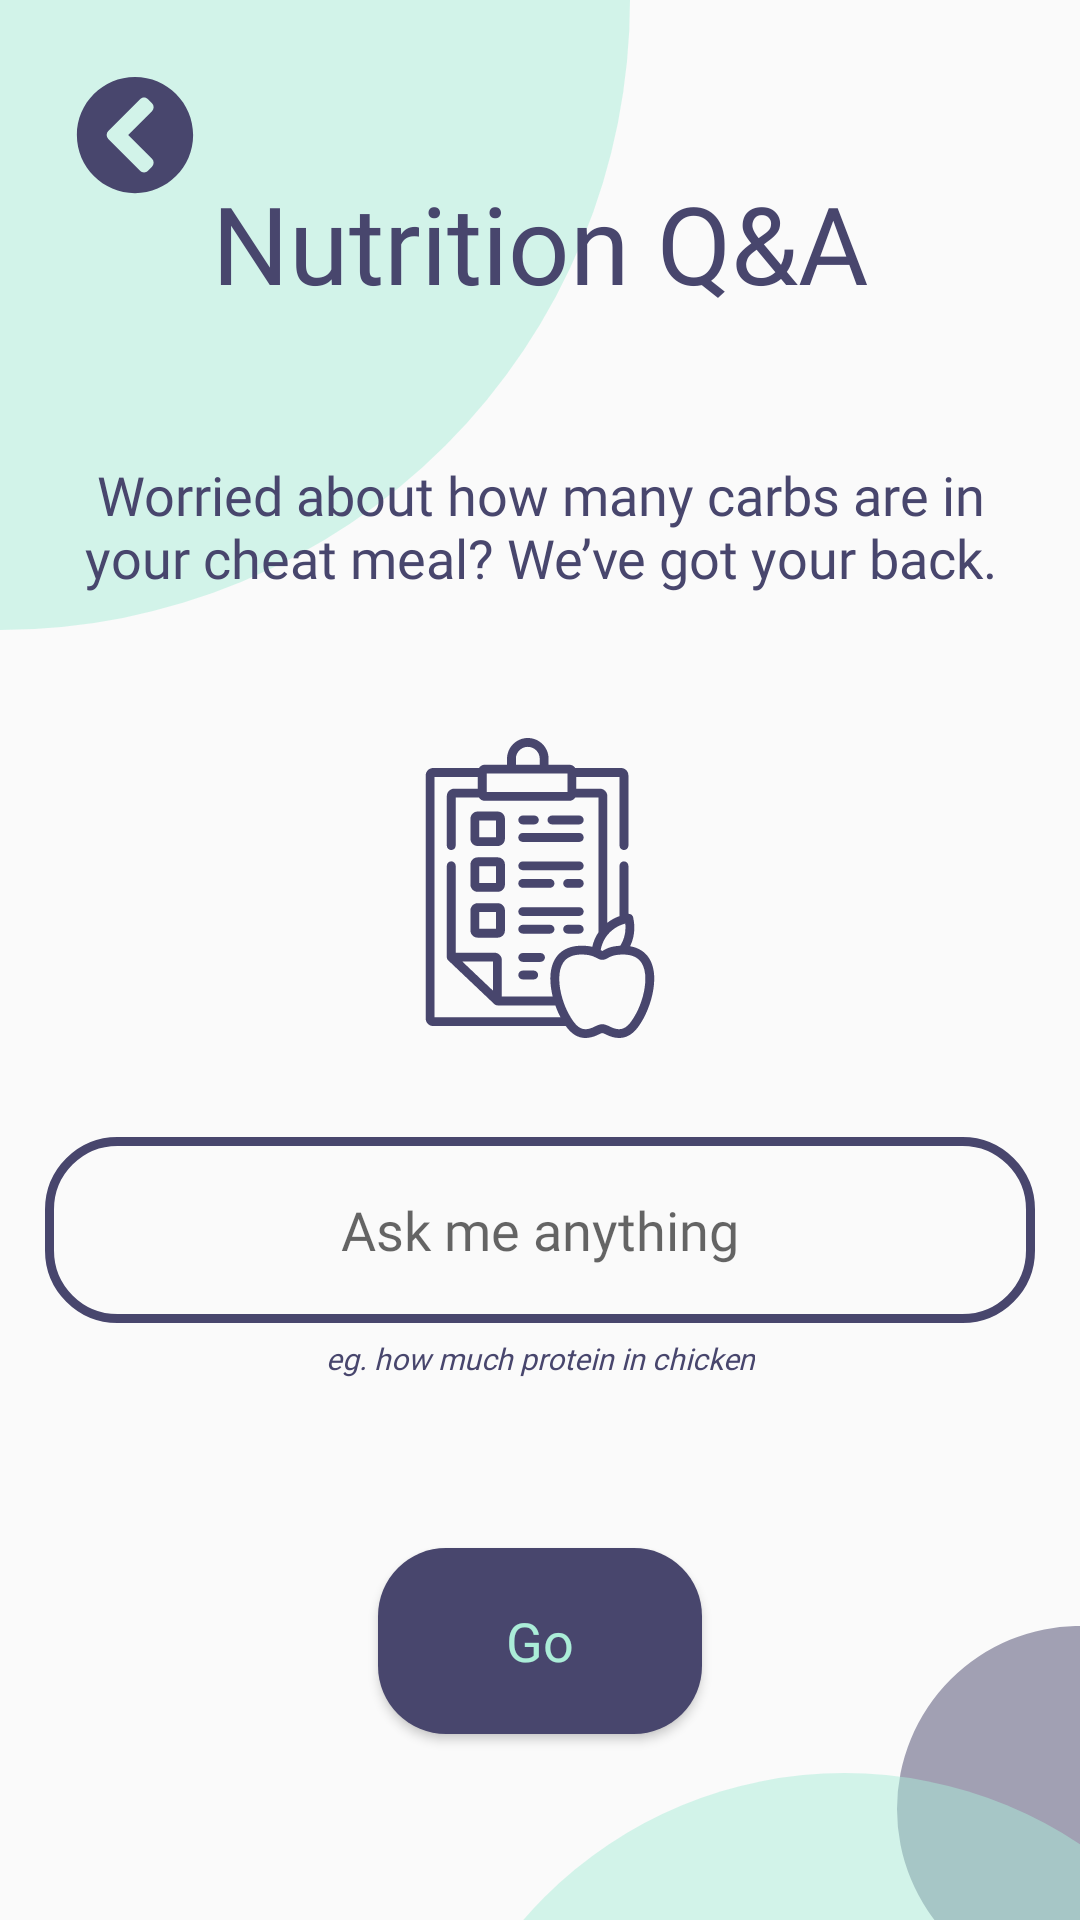

Screen size 1080×1920. Icon name, then its box in pixels as (x1, y1, x2, y2):
back arrow: (77, 77, 193, 194)
clipboard: (425, 738, 655, 1038)
